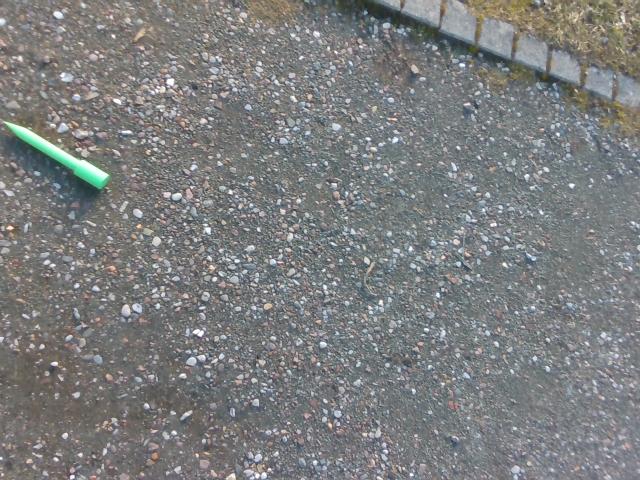Probe: (1, 112, 113, 193)
